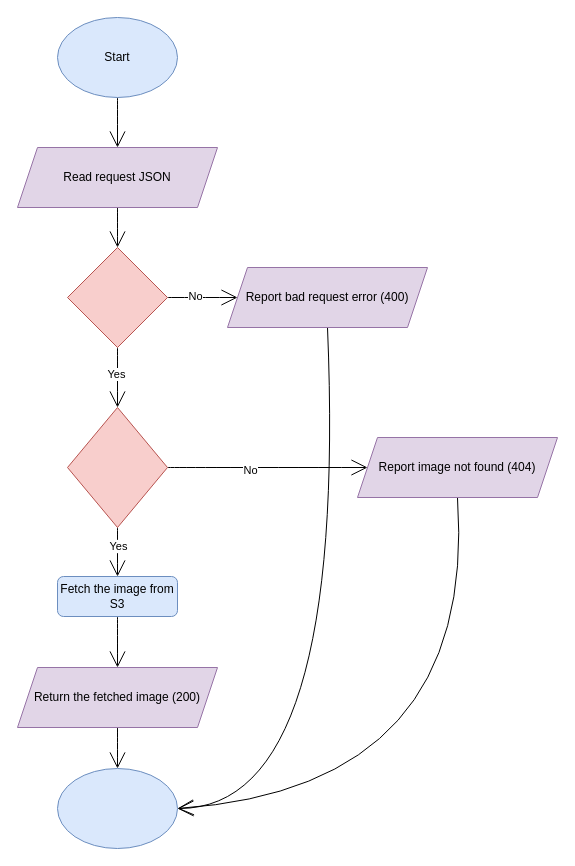
Some shapes in this 575 by 866 pixel diagram are drawn without their labels. Each missing label, with the centre of its shape:
Does image exists in S3 with given UUID: the point at 117,467
Is request valid: the point at 117,297
Stop: the point at 117,808
